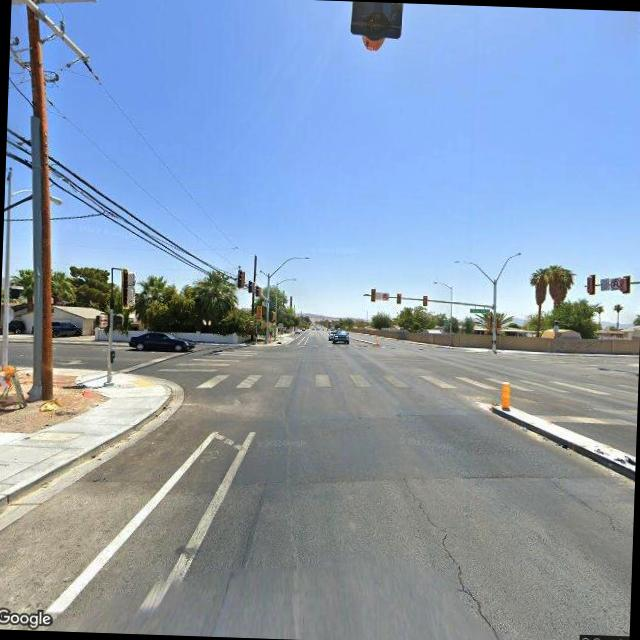crack: (396, 477, 502, 633), (546, 477, 622, 531)
